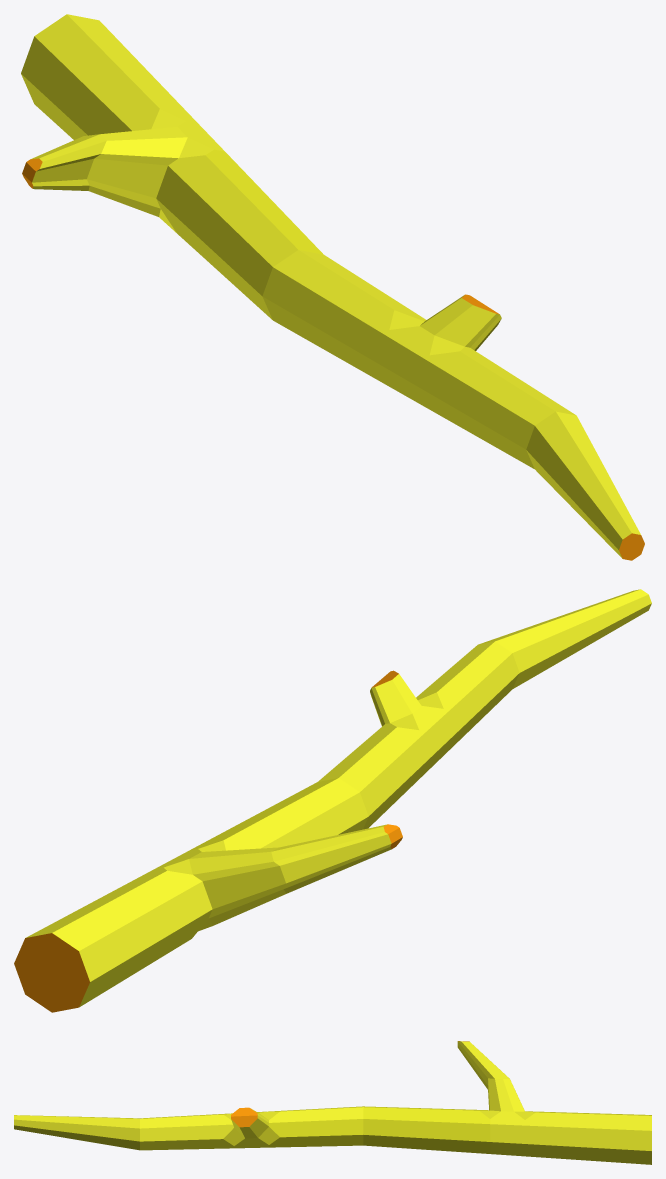
Rendered from Stick_35.fbx.
3 views of the same model, one above another, from view 1: azimuth 30°, elevation 25°; view 2: azimuth 150°, elevation 25°; view 3: azimuth 270°, elevation 25° (orthographic). The views are drawn at different scales.
Visible parts, largest first — view 1: Circle.318; view 2: Circle.318; view 3: Circle.318.
Boxes of the visible parts, bbox=[...] form: Circle.318: bbox=[21, 14, 644, 560]; Circle.318: bbox=[14, 589, 651, 1012]; Circle.318: bbox=[14, 1041, 651, 1164].
Size of the model in its own units: 10.19 by 4.97 by 40.94.
